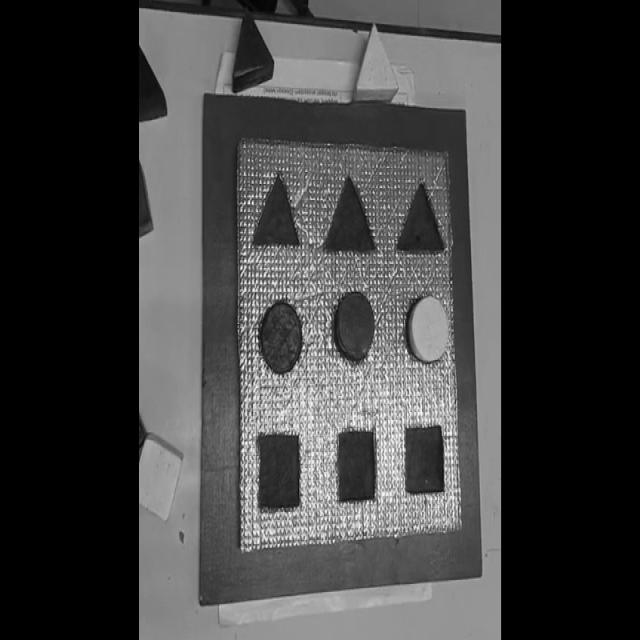bcircle: (260, 300, 303, 374)
btriangle: (139, 44, 166, 122)
mtcube: (257, 432, 302, 512), (337, 428, 378, 506), (404, 423, 446, 497)
mttriangle: (322, 174, 377, 255), (253, 171, 302, 251), (397, 182, 446, 255)
rcircle: (336, 290, 376, 360)
rtriangle: (232, 10, 275, 95)
wb: (233, 137, 462, 553)
ycircle: (406, 295, 449, 363)
ycube: (140, 432, 182, 522)
ytriangle: (354, 22, 398, 103)
